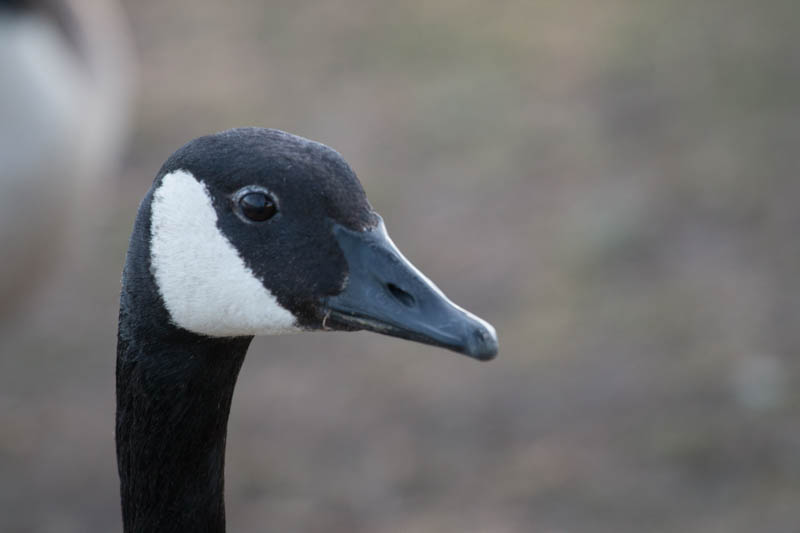goose-head: (114, 127, 502, 360)
